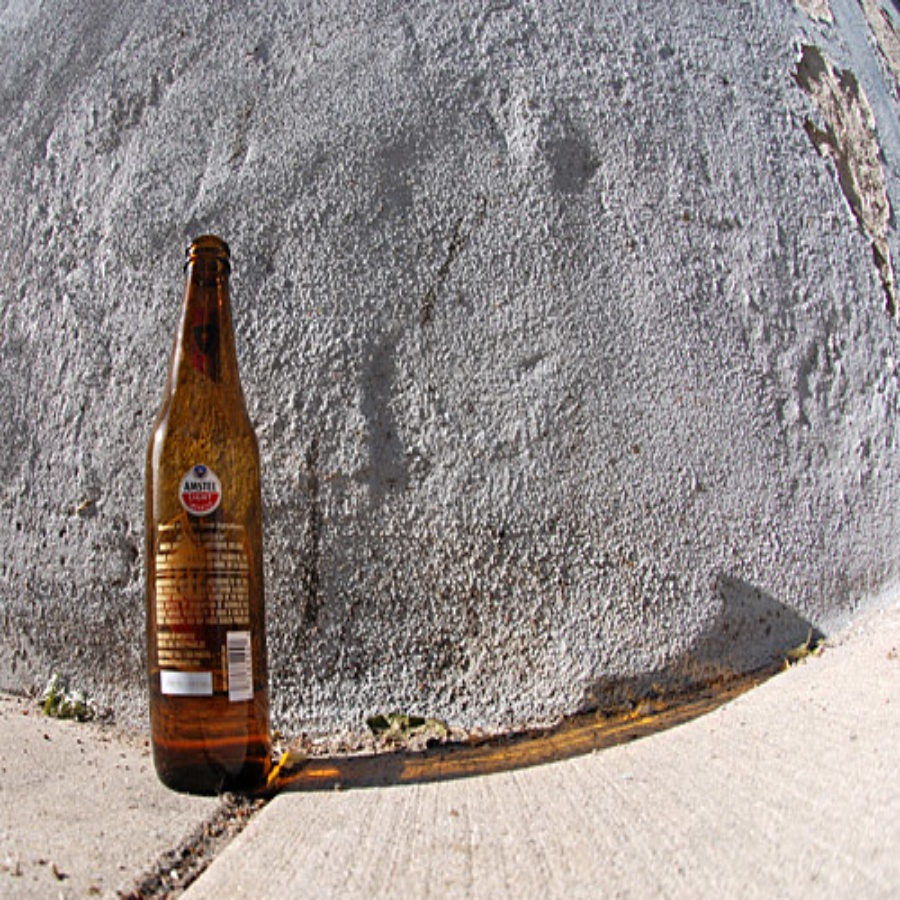beer: (144, 222, 285, 789)
